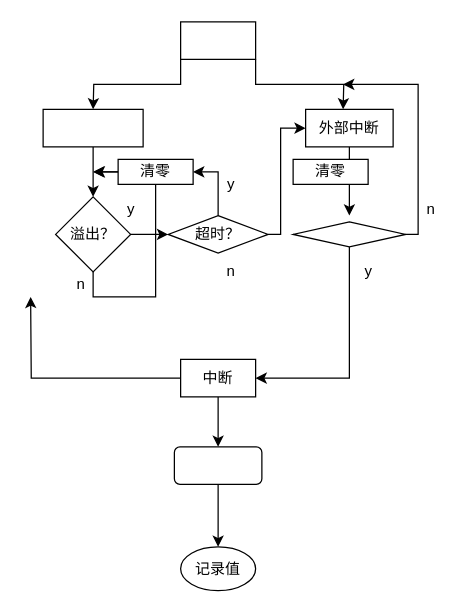
This 465x613 diagram has some shape labels left out. Each missing label, with the centre of its shape:
定时器: (x=92, y=127)
开始: (x=217, y=40)
收到回波？: (x=349, y=234)
计算距离: (x=217, y=465)
